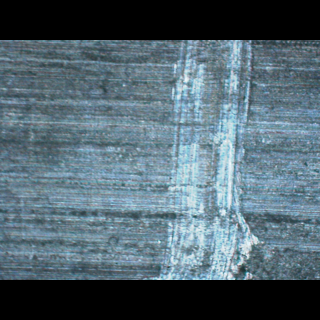d: (149, 40, 267, 279)
